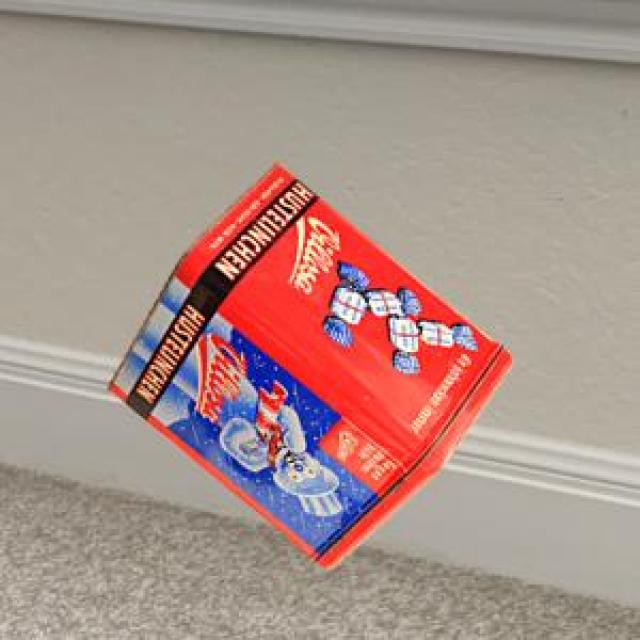logam: (106, 159, 511, 566)
